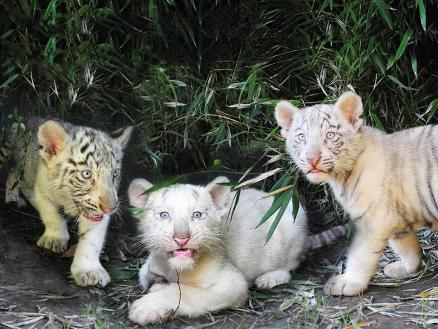Tigrew: (263, 85, 429, 274), (117, 171, 299, 318), (25, 106, 126, 288)
